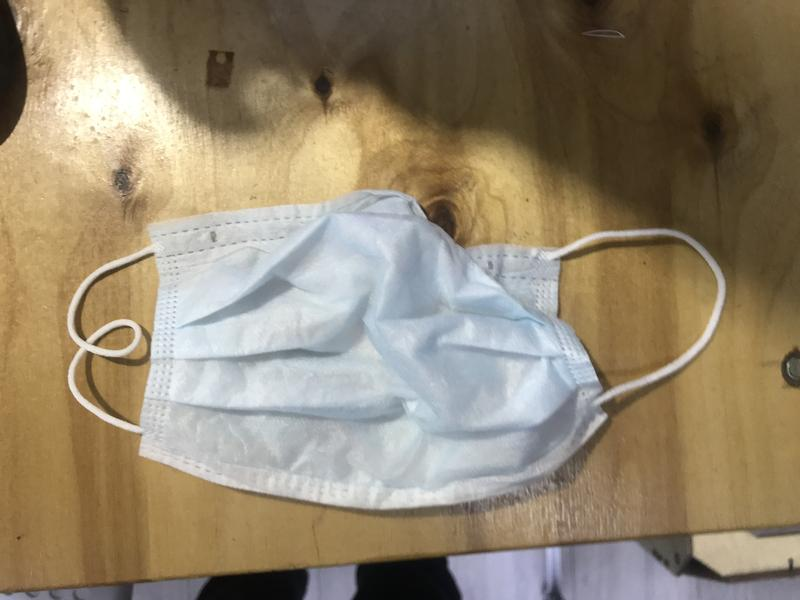medical_mask: (65, 190, 725, 513)
